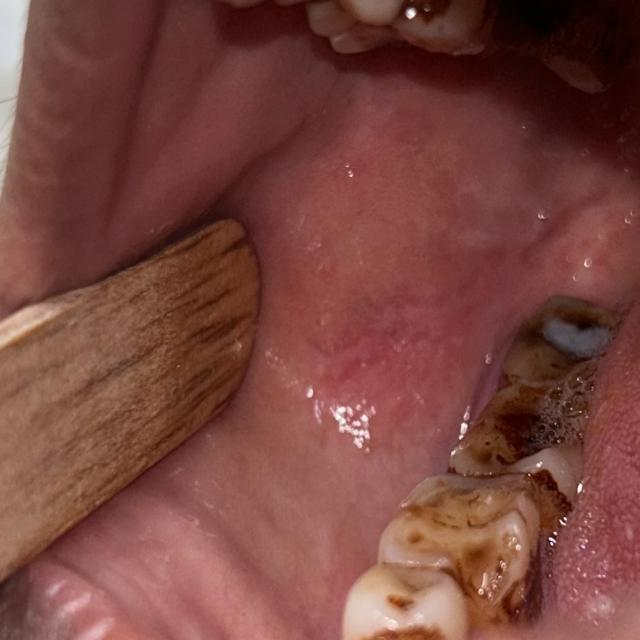leukoplakia-like-detection: (283, 70, 638, 444), (79, 361, 453, 639)
processing_area: (53, 0, 639, 639)
